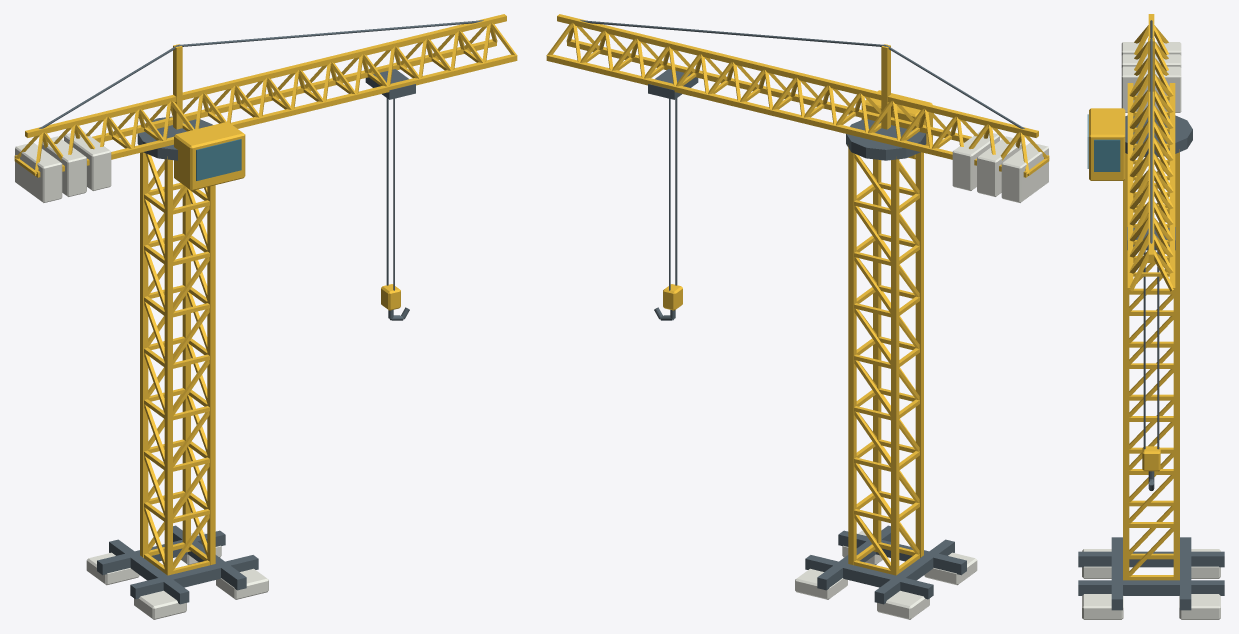
File: Tower_Crane.fbx
3 renders of one model, left to right at view 1: azimuth 30°, elevation 25°; view 2: azimuth 150°, elevation 25°; view 3: azimuth 270°, elevation 25°, orthographic. The views are drawn at different scales.
Visible parts, largest first — view 1: Jib Upper Chord, Tower Vertical, Tower Vertical.002, Tower Vertical.001, Jib Lower Chord, Operator Cabin, Jib Lower Chord.001, Tower Vertical.003, Counterweight, Crane Base Girder, Cabin Side Glazing, Counterweight.002 (+10 smaller); view 2: Jib Upper Chord, Tower Vertical.001, Tower Vertical.003, Jib Lower Chord.001, Tower Vertical, Tower Vertical.002, Jib Lower Chord, Counterweight, Crane Base Girder.001, Crane Slewing Ring, Counterweight.002, Counterweight.001 (+9 smaller); view 3: Tower Vertical.003, Tower Vertical.002, Crane Base Girder.003, Operator Cabin, Crane Base Girder.002, Jib Upper Chord, Jib Lower Chord, Jib Lower Chord.001, Counterweight.002, Crane Concrete Foot.002, Crane Concrete Foot.003, Cabin Front Glazing (+32 smaller).
Boxes of the visible parts, x1,y1,x2,y2 form: Jib Upper Chord: (25, 14, 506, 137); Tower Vertical: (164, 156, 172, 575); Tower Vertical.002: (207, 185, 215, 565); Tower Vertical.001: (140, 152, 148, 557); Jib Lower Chord: (36, 54, 517, 177); Operator Cabin: (174, 121, 245, 190); Jib Lower Chord.001: (14, 39, 496, 158); Tower Vertical.003: (182, 191, 190, 552); Counterweight: (15, 143, 62, 202); Crane Base Girder: (130, 555, 258, 599); Cabin Side Glazing: (196, 139, 241, 180); Counterweight.002: (64, 131, 111, 190); Jib Upper Chord: (557, 14, 1038, 137); Tower Vertical.001: (891, 156, 899, 575); Tower Vertical.003: (848, 145, 856, 565); Jib Lower Chord.001: (546, 54, 1027, 177); Tower Vertical: (915, 152, 923, 557); Tower Vertical.002: (873, 159, 881, 552); Jib Lower Chord: (567, 39, 1049, 158); Counterweight: (1001, 143, 1048, 202); Crane Base Girder.001: (805, 555, 933, 599); Crane Slewing Ring: (846, 119, 926, 160); Counterweight.002: (952, 131, 999, 190); Counterweight.001: (977, 136, 1021, 196); Tower Vertical.003: (1173, 149, 1179, 580); Tower Vertical.002: (1123, 153, 1129, 580); Crane Base Girder.003: (1078, 580, 1224, 595); Operator Cabin: (1089, 108, 1125, 180); Crane Base Girder.002: (1078, 551, 1224, 567); Jib Upper Chord: (1148, 14, 1154, 259); Jib Lower Chord: (1127, 83, 1133, 293); Jib Lower Chord.001: (1169, 83, 1175, 293); Counterweight.002: (1121, 66, 1181, 112); Crane Concrete Foot.002: (1082, 594, 1123, 619); Crane Concrete Foot.003: (1179, 594, 1220, 619); Cabin Front Glazing: (1094, 139, 1120, 171).
Bounding box in the file's own units: 1179 × 1252 × 300.
